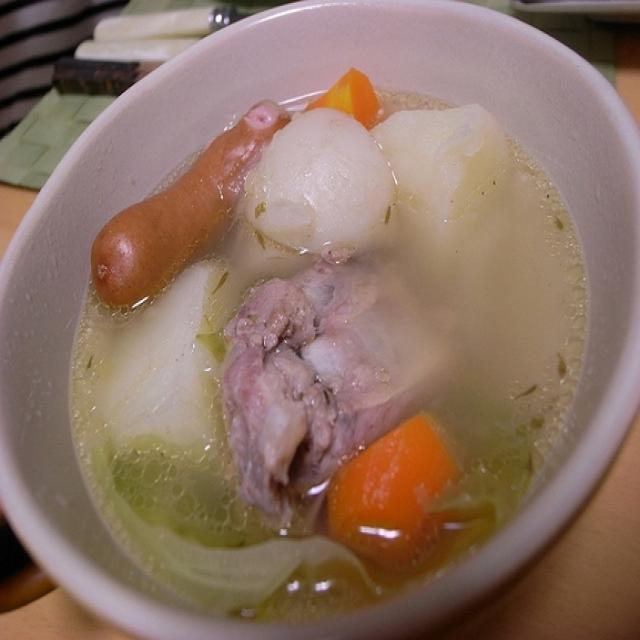汤锅炖物: (41, 41, 599, 621)
